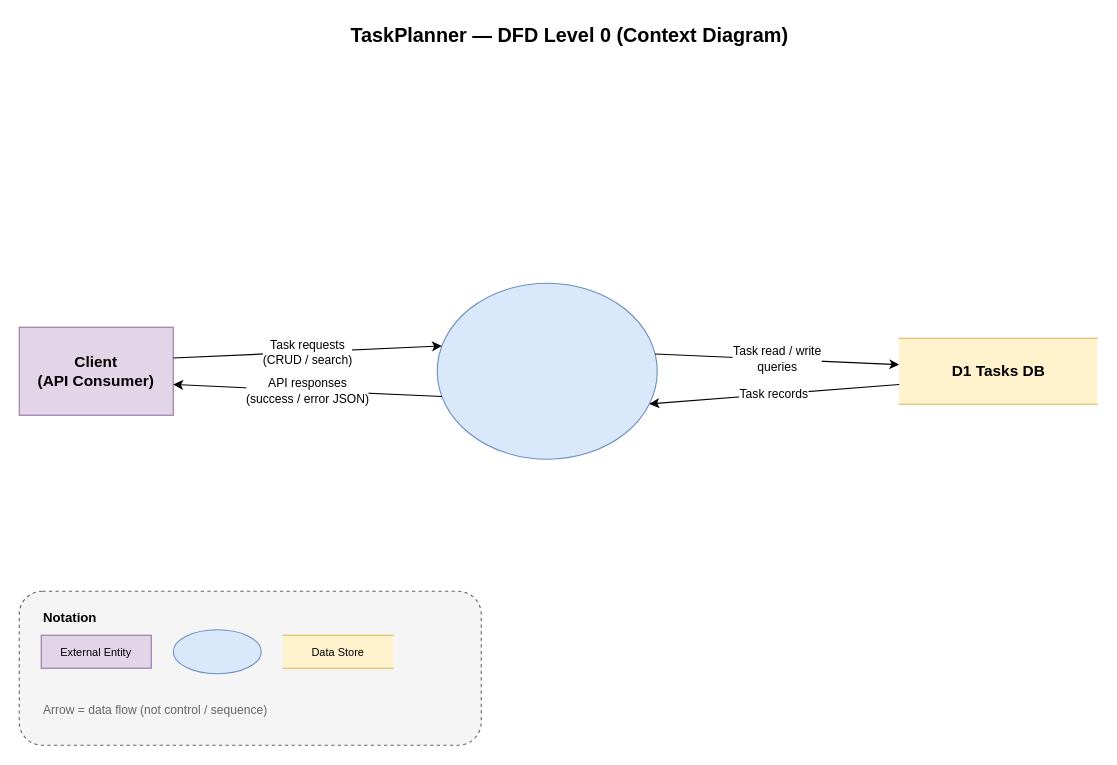
Image size: 1117x765. Some labels were removed from this diagram. The shapes that lost their labels are listed below. From the top down, each one's box as (x1, y1, x2, y2) in pixels, then its label:
(436, 282, 657, 459): 0 TaskPlanner System
(172, 629, 261, 674): Process
